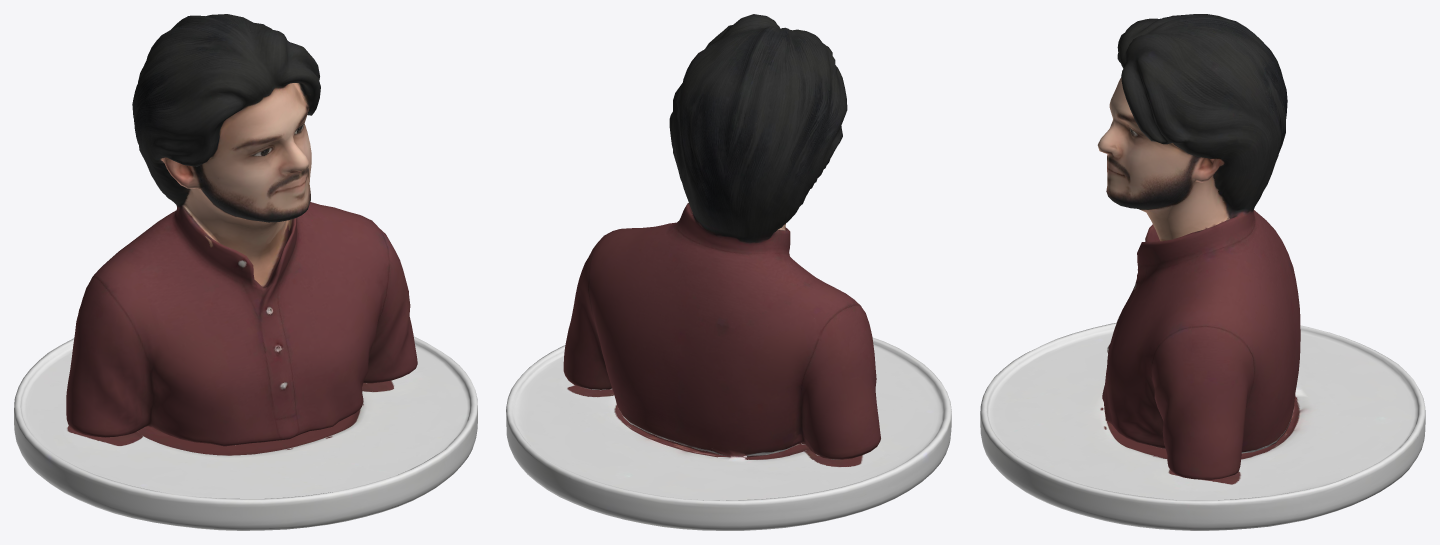
File: akshaycp.glb
3 views of the same model, side by side, from view 1: azimuth 30°, elevation 25°; view 2: azimuth 150°, elevation 25°; view 3: azimuth 270°, elevation 25° (orthographic). The views are drawn at different scales.
Parts seen in each view (by area): view 1: tripo_node_415cab02-8d75-4a72-8963-49ad67c993b0; view 2: tripo_node_415cab02-8d75-4a72-8963-49ad67c993b0; view 3: tripo_node_415cab02-8d75-4a72-8963-49ad67c993b0.
Boxes of the visible parts, x1,y1,x2,y2 form: tripo_node_415cab02-8d75-4a72-8963-49ad67c993b0: (14, 14, 477, 530); tripo_node_415cab02-8d75-4a72-8963-49ad67c993b0: (506, 14, 951, 530); tripo_node_415cab02-8d75-4a72-8963-49ad67c993b0: (980, 14, 1425, 530).
Size of the model in its own units: 0.9862 by 0.9978 by 0.9856.
Materials: 1 (1 with a texture image).
